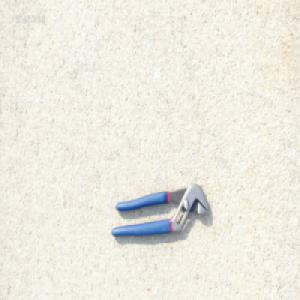Pliers: (111, 181, 213, 237)
